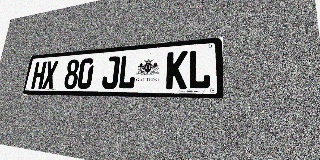0: (76, 58, 95, 89)
8: (63, 59, 81, 89)
H: (31, 61, 47, 89)
J: (101, 56, 120, 89)
K: (165, 51, 188, 89)
L: (187, 49, 211, 89), (117, 55, 137, 89)
X: (42, 61, 58, 89)
